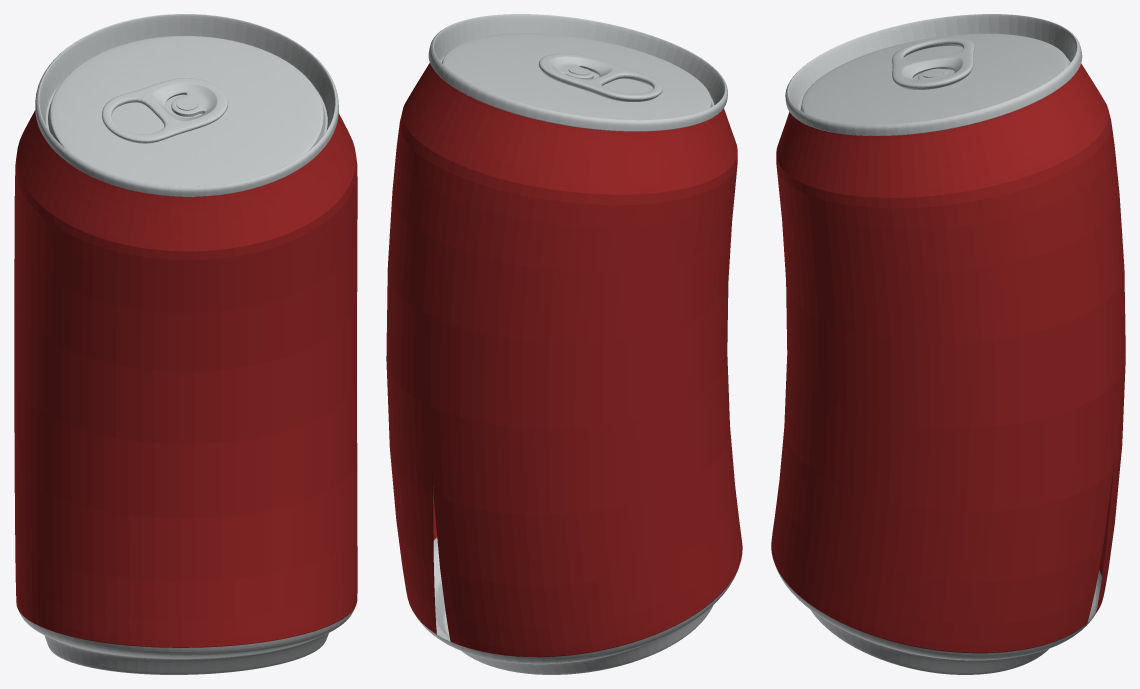
The model's file is bend_low_0.obj.
3 views of the same model, side by side, from view 1: azimuth 30°, elevation 25°; view 2: azimuth 150°, elevation 25°; view 3: azimuth 270°, elevation 25° (orthographic).
Visible parts, largest first — view 1: model; view 2: model; view 3: model.
Boxes of the visible parts, bbox=[...] form: model: bbox=[14, 14, 357, 674]; model: bbox=[386, 14, 742, 674]; model: bbox=[771, 14, 1125, 674].
Size of the model in its own units: 0.0701 by 0.1298 by 0.0717.
1 material, 1 textured.
